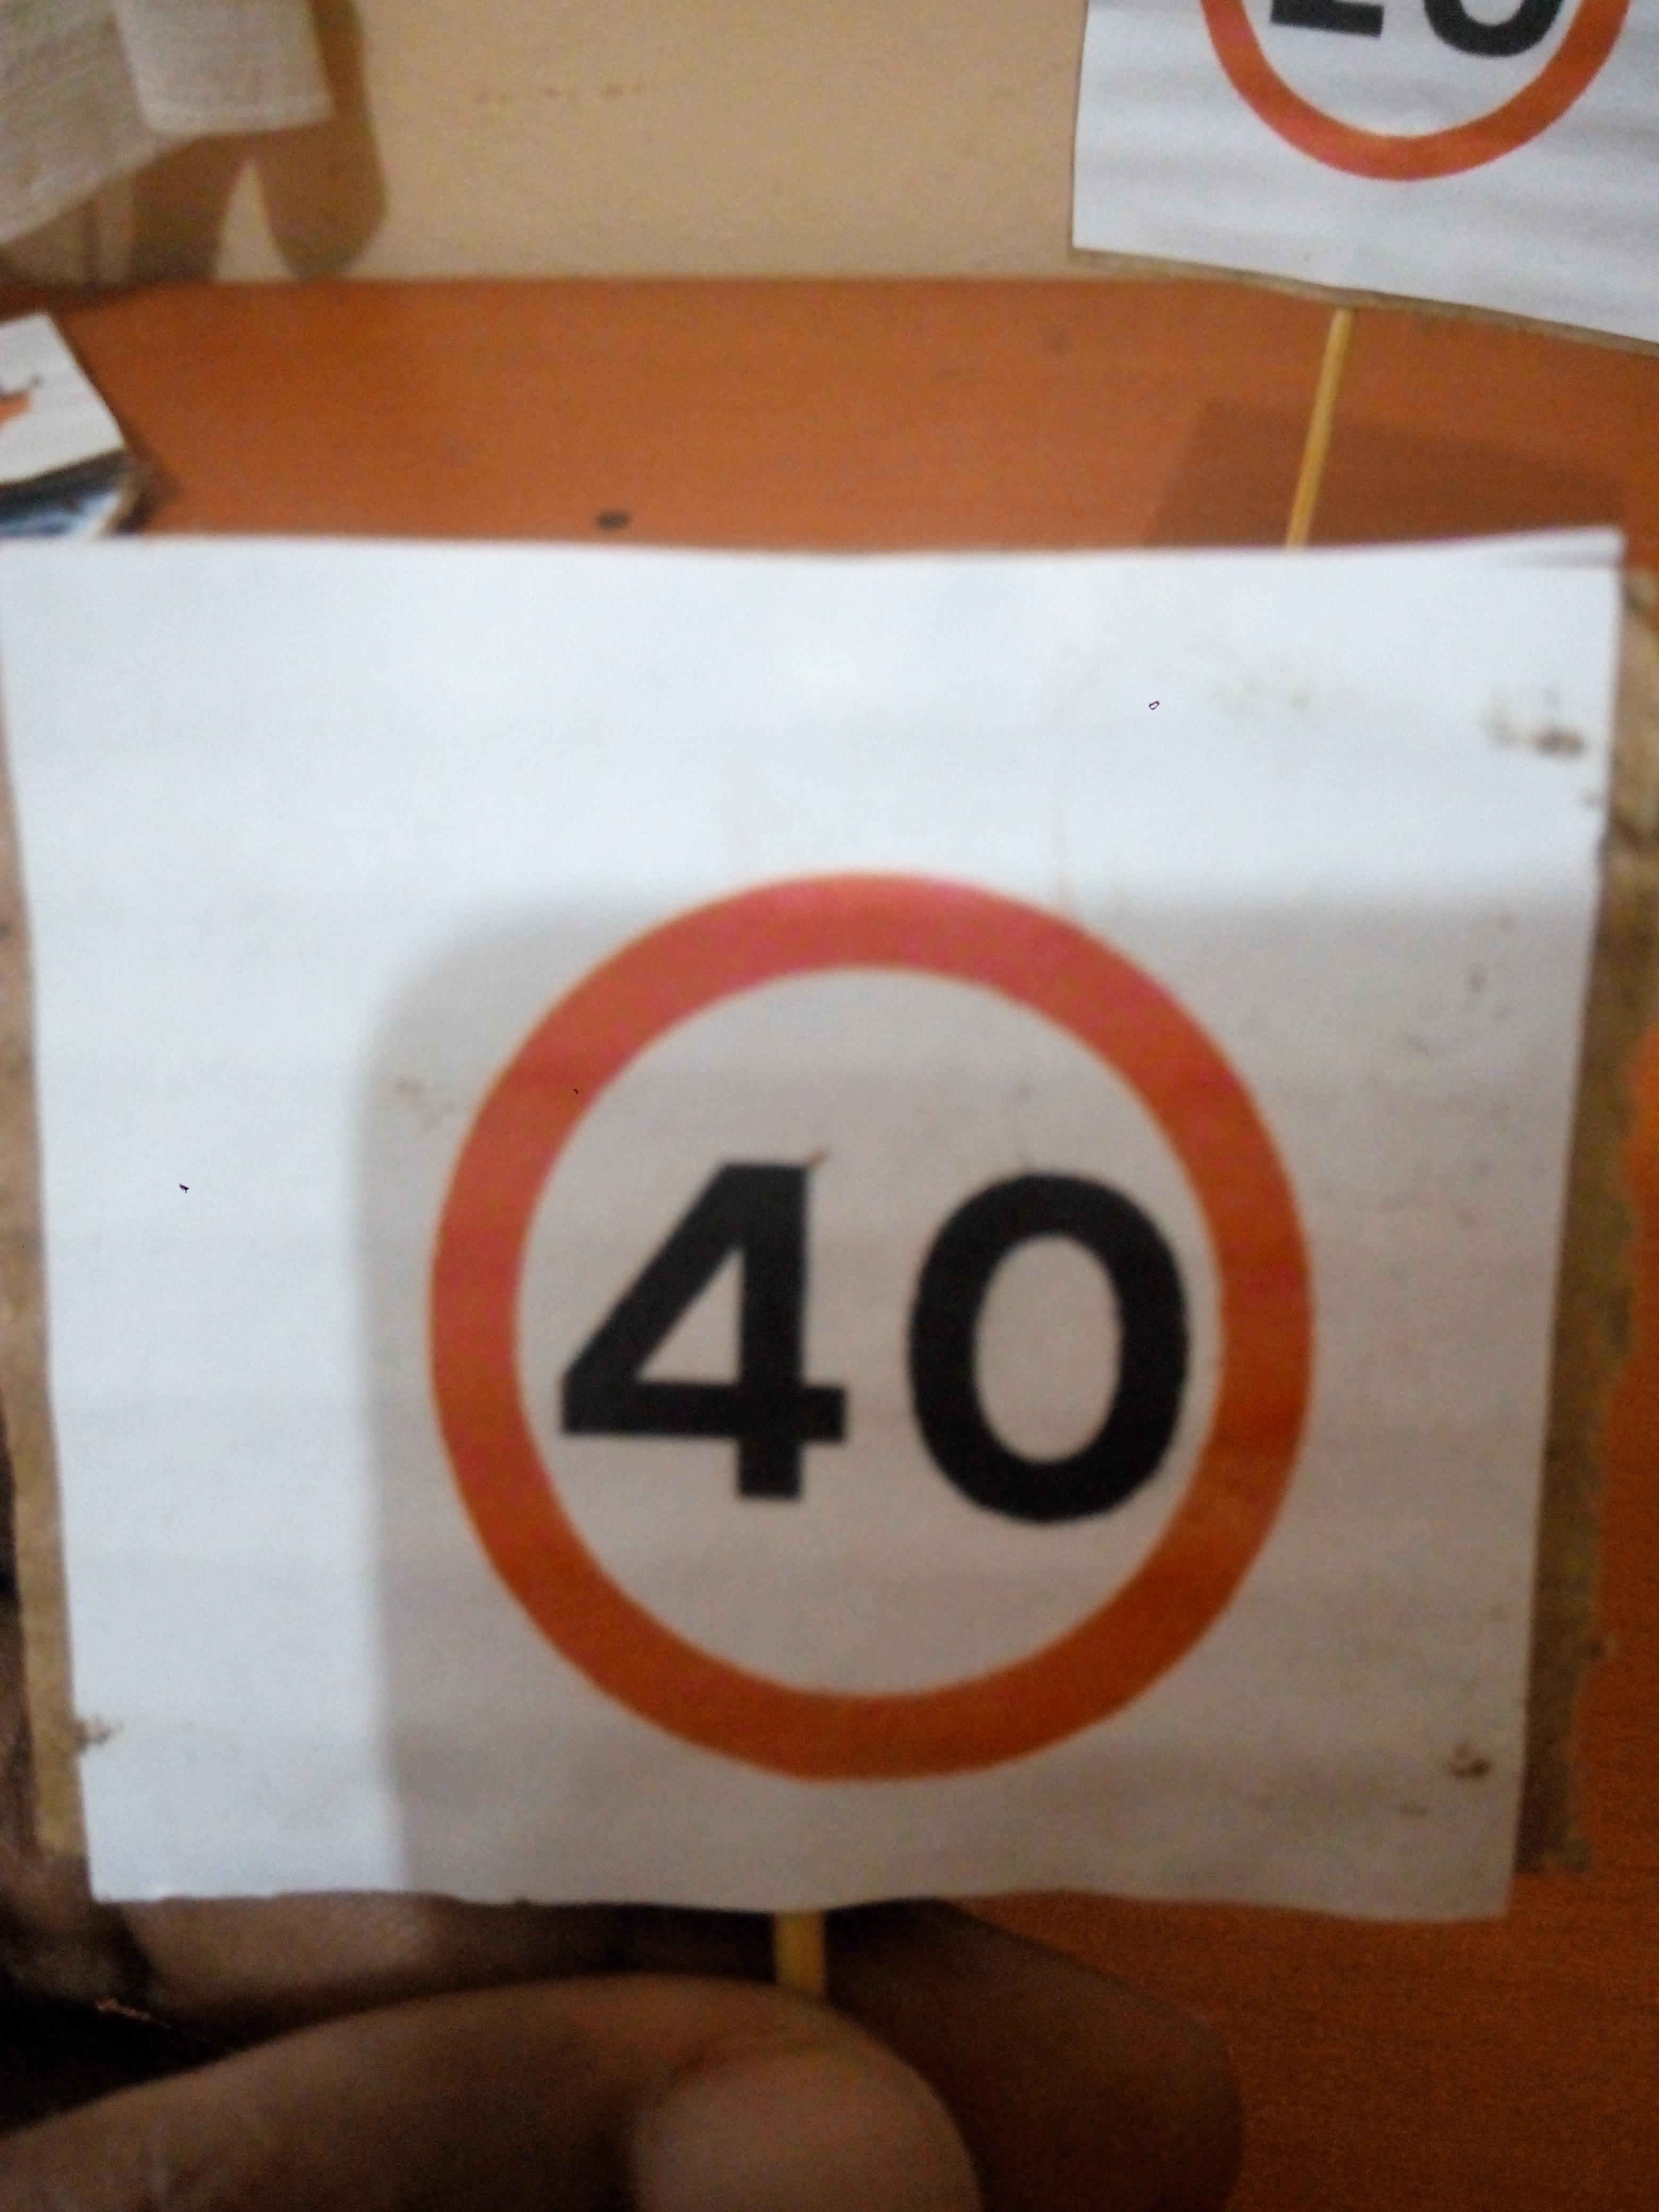40kph: (352, 798, 1363, 1822)
